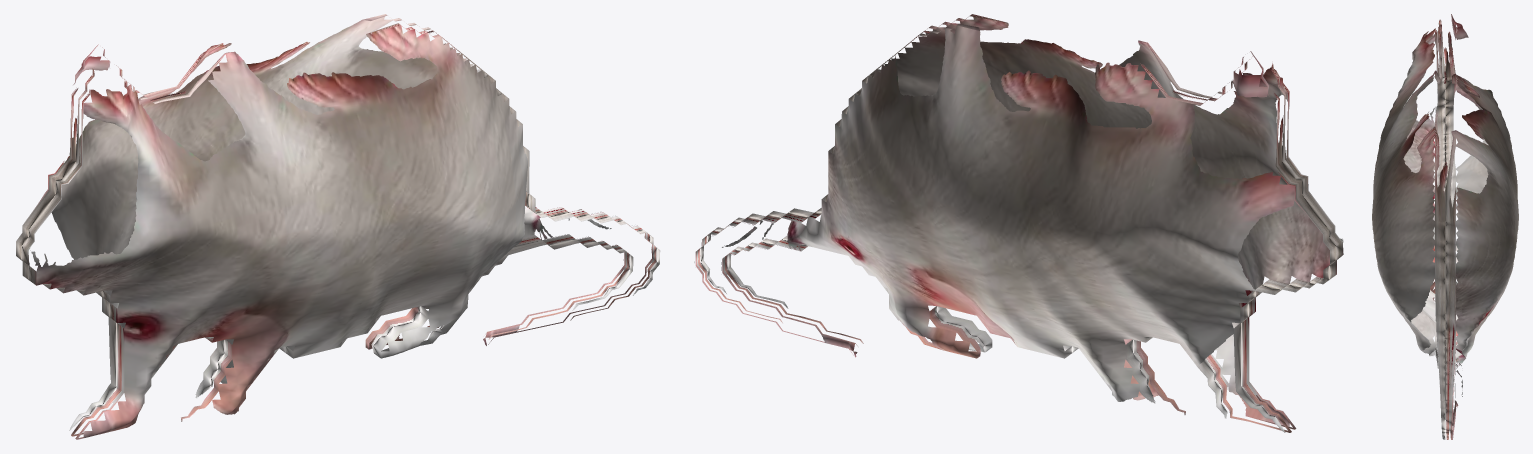
The model's file is mouse.glb.
The picture shows the model from 3 angles, left to right: view 1: azimuth 30°, elevation 25°; view 2: azimuth 150°, elevation 25°; view 3: azimuth 270°, elevation 25°; orthographic projection. The views are drawn at different scales.
Parts seen in each view (by area): view 1: reconstruction_artistique_non_anatomique_mouse; view 2: reconstruction_artistique_non_anatomique_mouse; view 3: reconstruction_artistique_non_anatomique_mouse.
Part boxes in pixels (bbox=[...]): reconstruction_artistique_non_anatomique_mouse: bbox=[16, 14, 660, 439]; reconstruction_artistique_non_anatomique_mouse: bbox=[694, 14, 1343, 432]; reconstruction_artistique_non_anatomique_mouse: bbox=[1372, 14, 1518, 439].
Size of the model in its own units: 3.62 by 2.26 by 1.08.
Materials: 1 (1 with a texture image).
